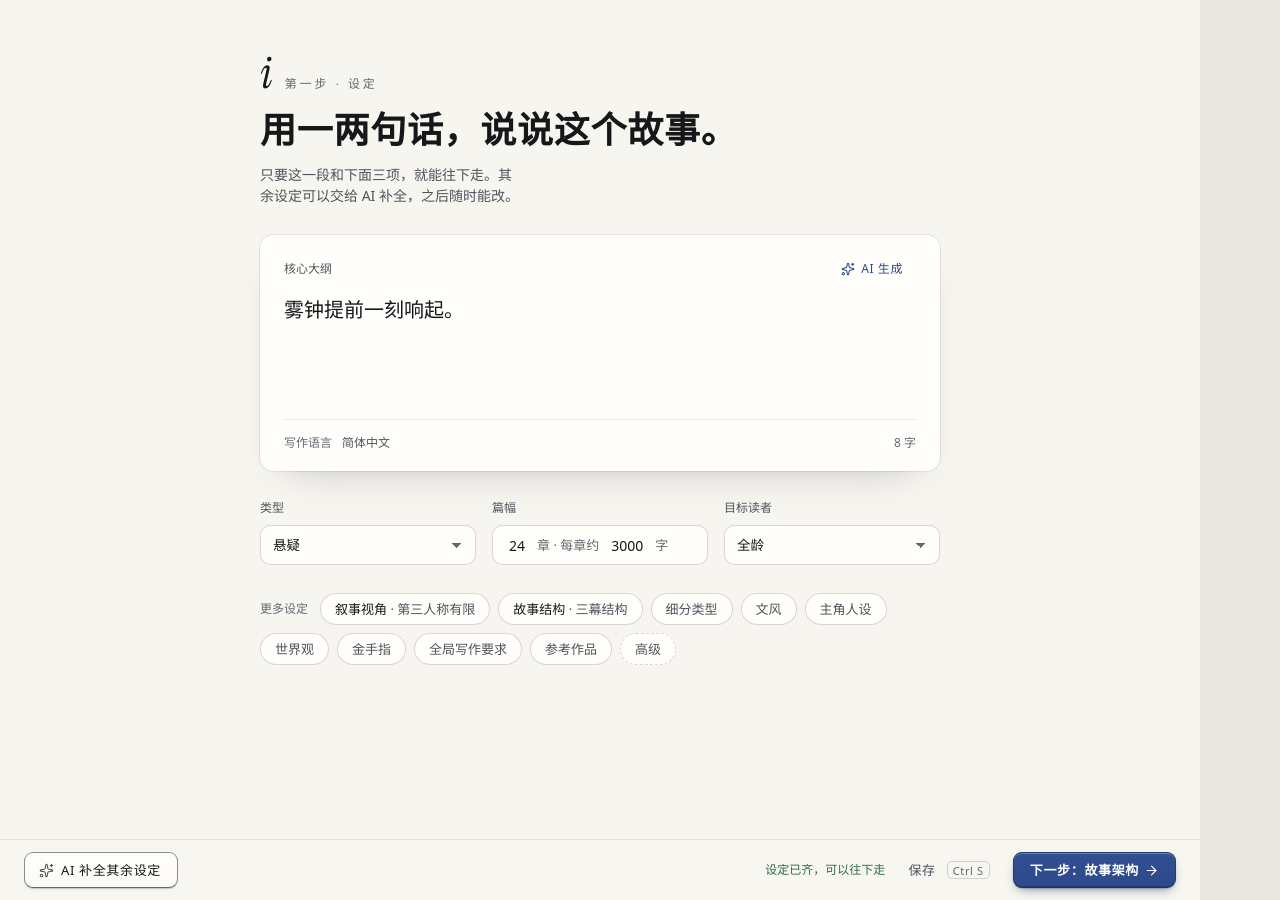
Test case: 设定页 › 下一步保存失败时留在设定页并写明原因
The width and height of the screenshot is (1280, 900).
Click the button "下一步：故事架构" at {"x": 1094, "y": 870}, box [1013,852,1176,888]
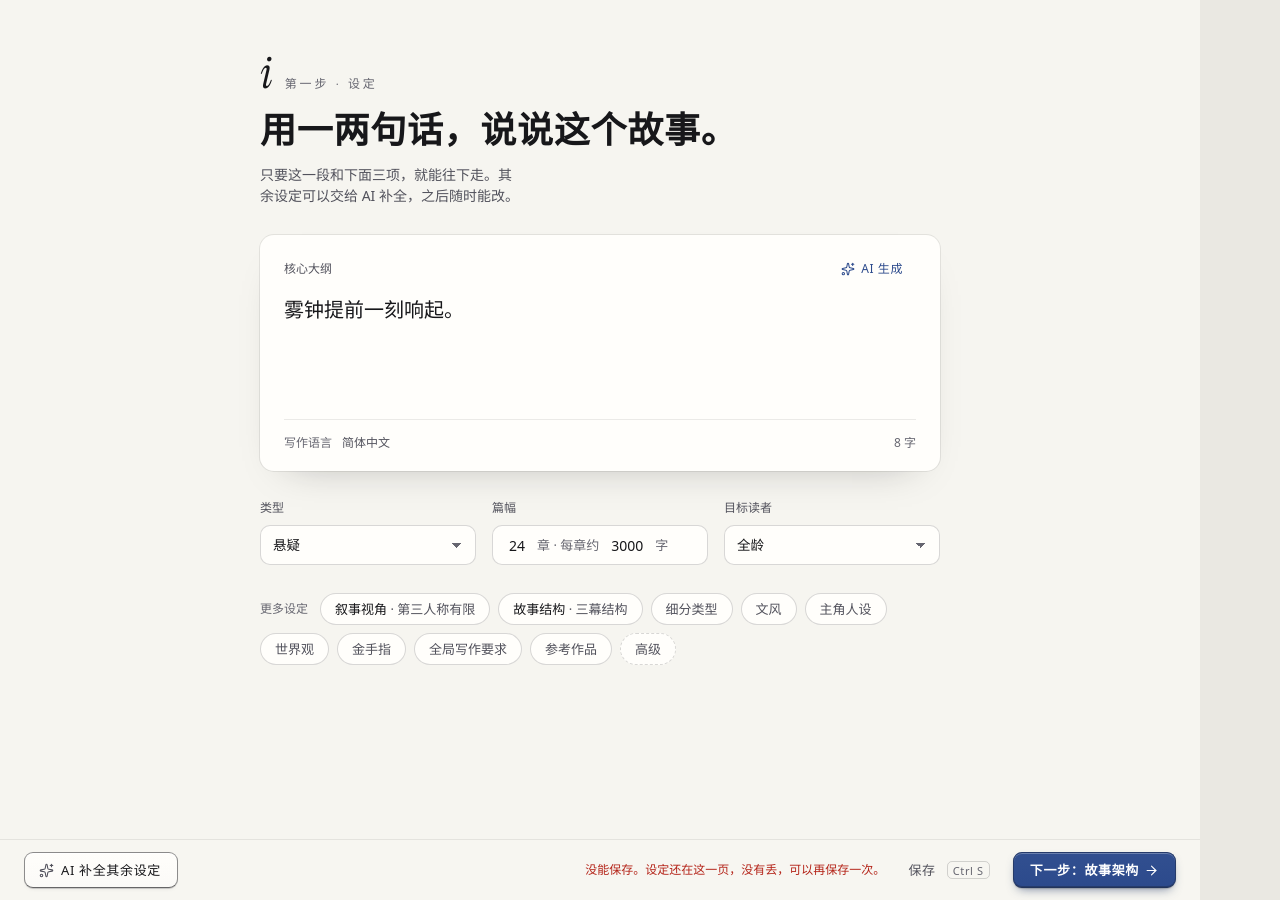
Expected: the message "没能保存。设定还在这一页，没有丢，可以再保存一次。" is shown, [585,861,885,878]
